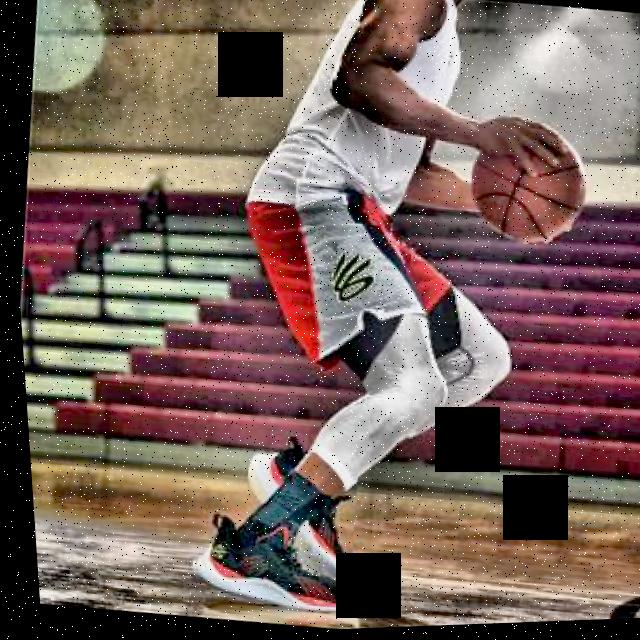shoe: (176, 503, 362, 623), (228, 432, 359, 584)
